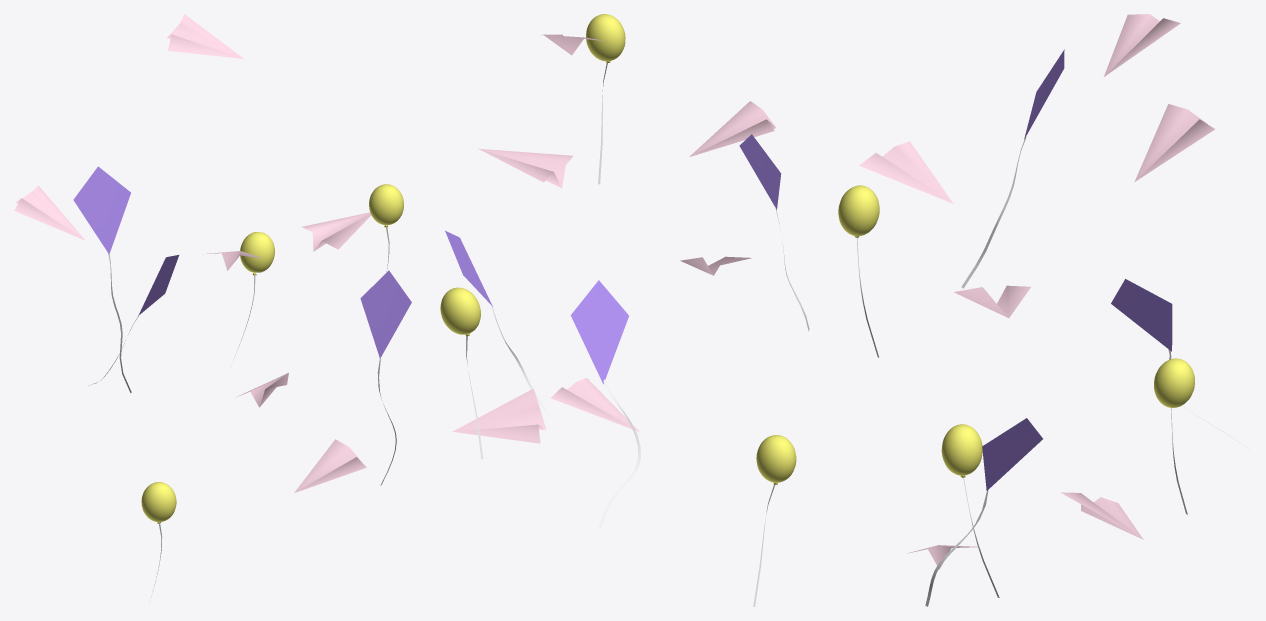
The model's file is kites.glb.
3 views of the same model, side by side, from view 1: azimuth 30°, elevation 25°; view 2: azimuth 150°, elevation 25°; view 3: azimuth 270°, elevation 25° (orthographic). The views are drawn at different scales.
Visible parts, largest first — view 1: kites; view 2: kites; view 3: kites.
Part boxes in pixels (x1=…): kites: x1=14, y1=14, x2=411, y2=591; kites: x1=440, y1=14, x2=809, y2=606; kites: x1=838, y1=14, x2=1248, y2=606.
Size of the model in its own units: 7.73 by 11.71 by 6.84.
